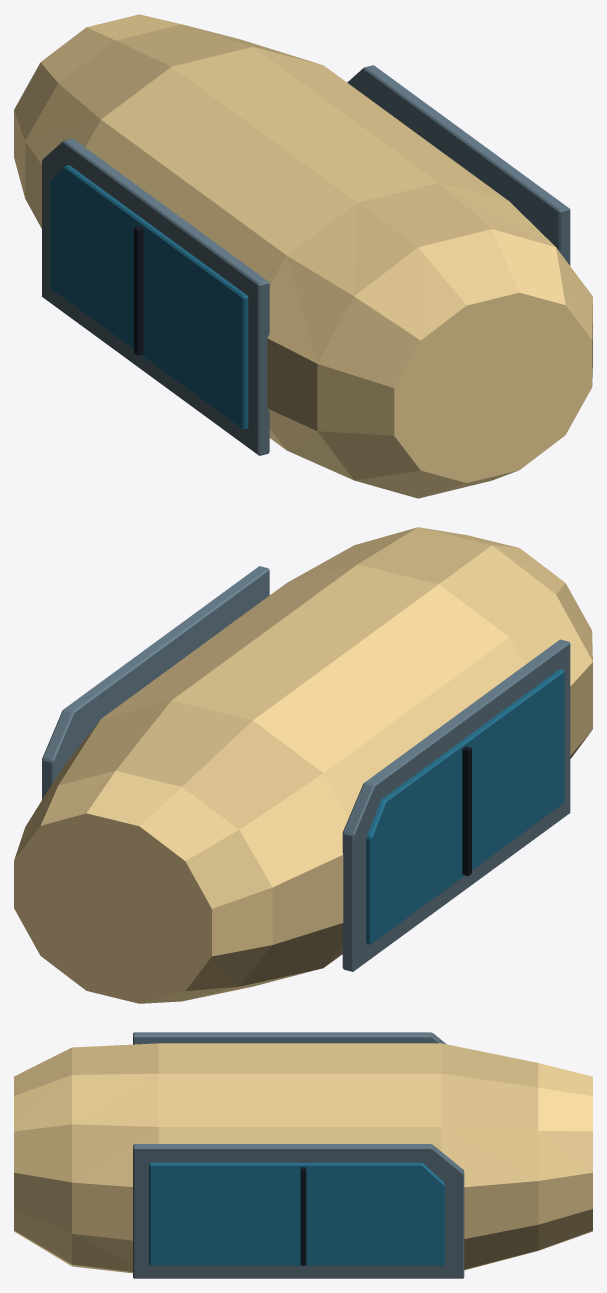
Rendered from EA_CargoBay.fbx.
3 renders of one model, top to bottom at view 1: azimuth 30°, elevation 25°; view 2: azimuth 150°, elevation 25°; view 3: azimuth 270°, elevation 25°, orthographic. The views are drawn at different scales.
Visible parts, largest first — view 1: EA_CargoBay; view 2: EA_CargoBay; view 3: EA_CargoBay.
Boxes of the visible parts, x1=… form: EA_CargoBay: x1=14, y1=14, x2=592, y2=498; EA_CargoBay: x1=14, y1=527, x2=592, y2=1003; EA_CargoBay: x1=14, y1=1032, x2=592, y2=1278.
Bounding box in the file's own units: 0.916 × 0.6955 × 1.8.
